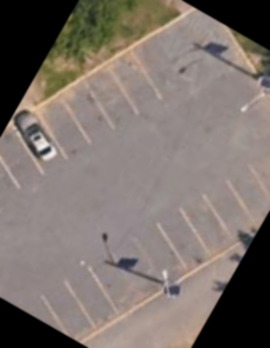parkingspot: (12, 143, 270, 345), (0, 43, 168, 211)
